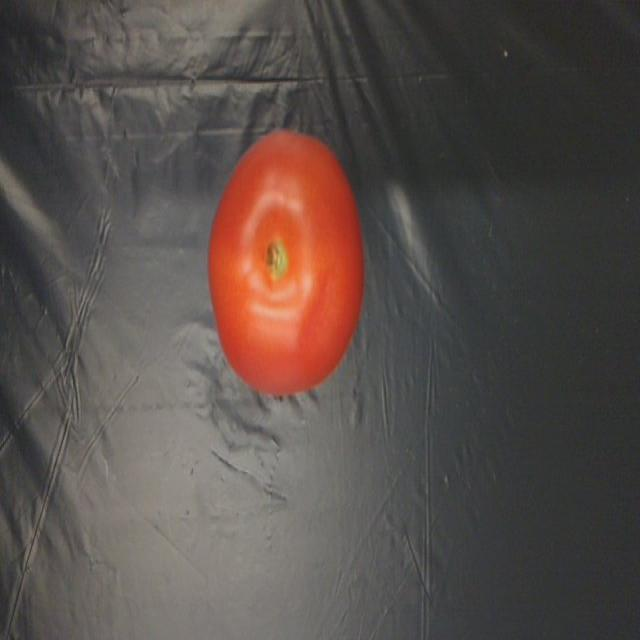sari: (181, 125, 373, 388)
